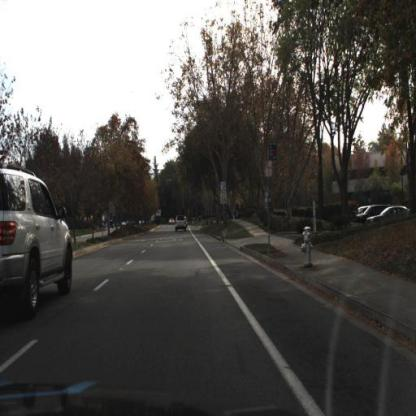biker: (216, 206, 232, 248), (221, 206, 233, 244)
car: (1, 165, 75, 321), (173, 212, 188, 234)
